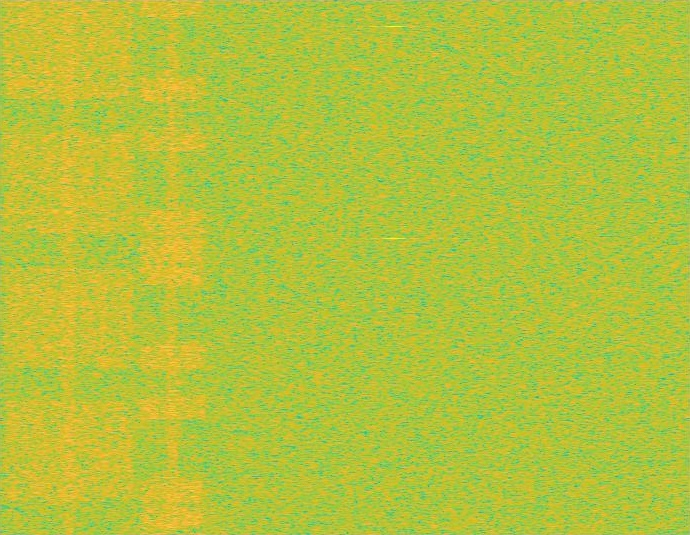5G: (0, 0, 138, 534)
DSSS: (60, 0, 78, 534), (165, 0, 180, 534)
LTE: (138, 0, 207, 534)
Radar: (388, 0, 401, 534)
